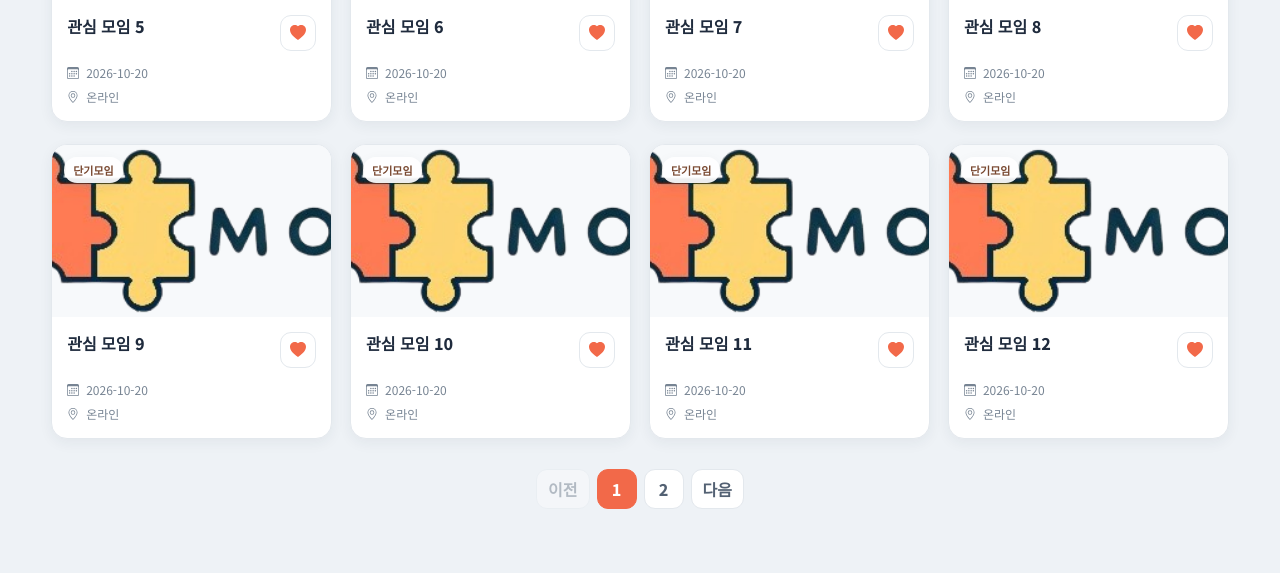
Test: favorite IDs load details in pages of twelve and removal updates the list
The image size is (1280, 573).
(page scrolled)
Step 1. Click the button with aria-label "다음 페이지" → click(717, 489), box [690,469,744,509]
(page scrolled)
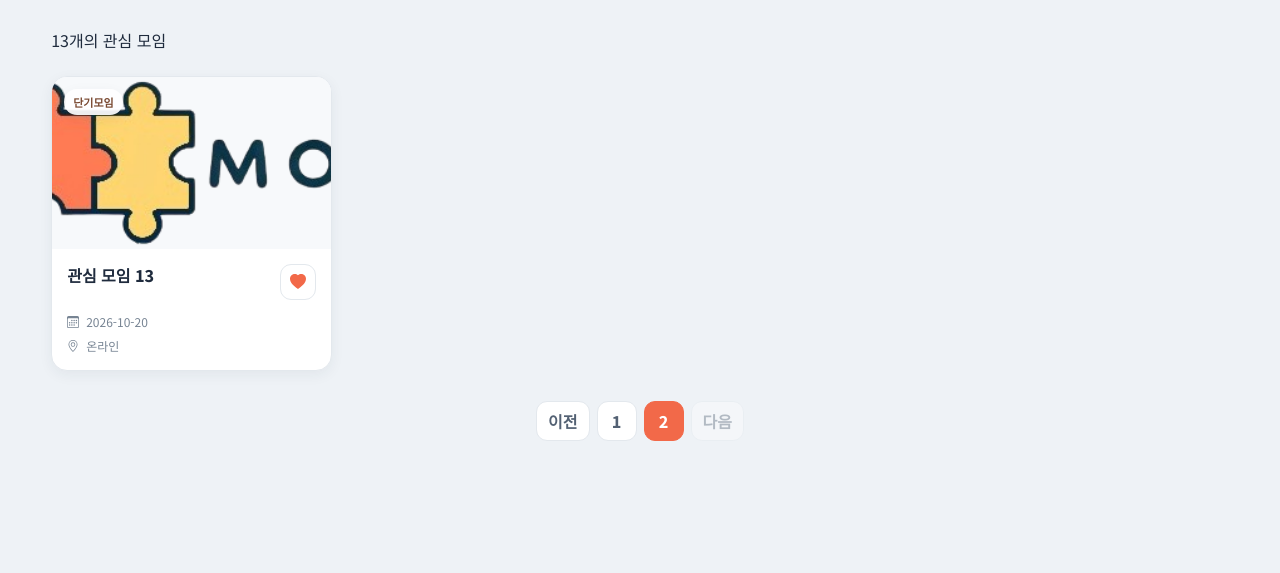
Result: the button "관심 모임 13" is shown at [67,264,270,287]
Step 2. Click the button named "관심 모임에서 제거" → click(298, 282), box [280,264,316,300]
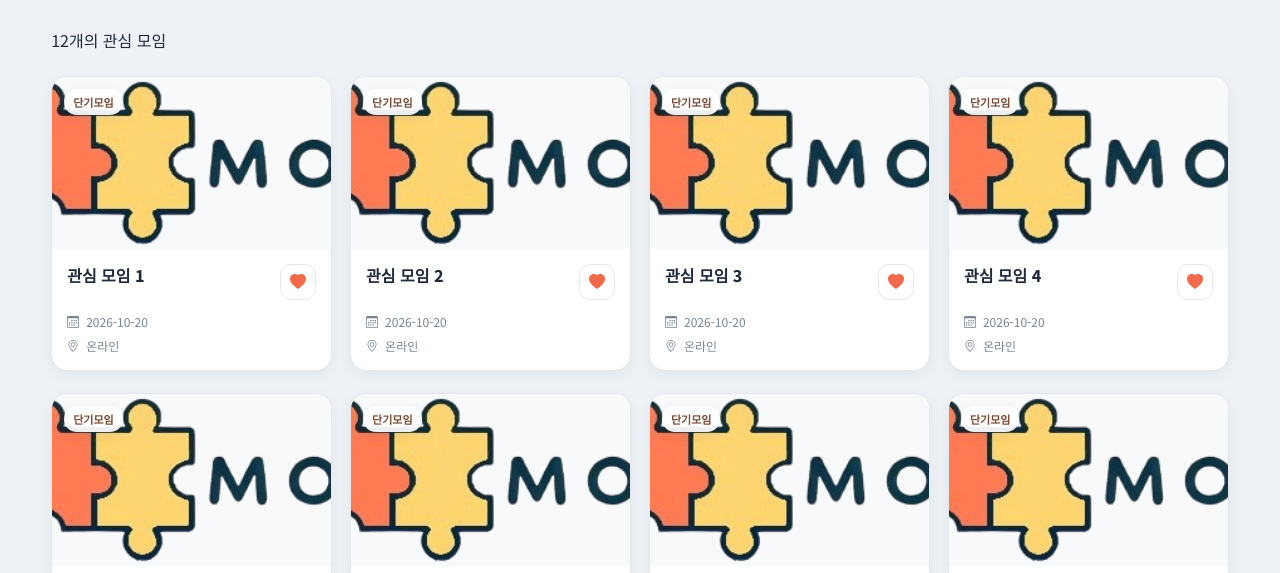
Result: the button "관심 모임 1" is shown at [67,264,270,287]
Result: the button "관심 모임 13" is gone
